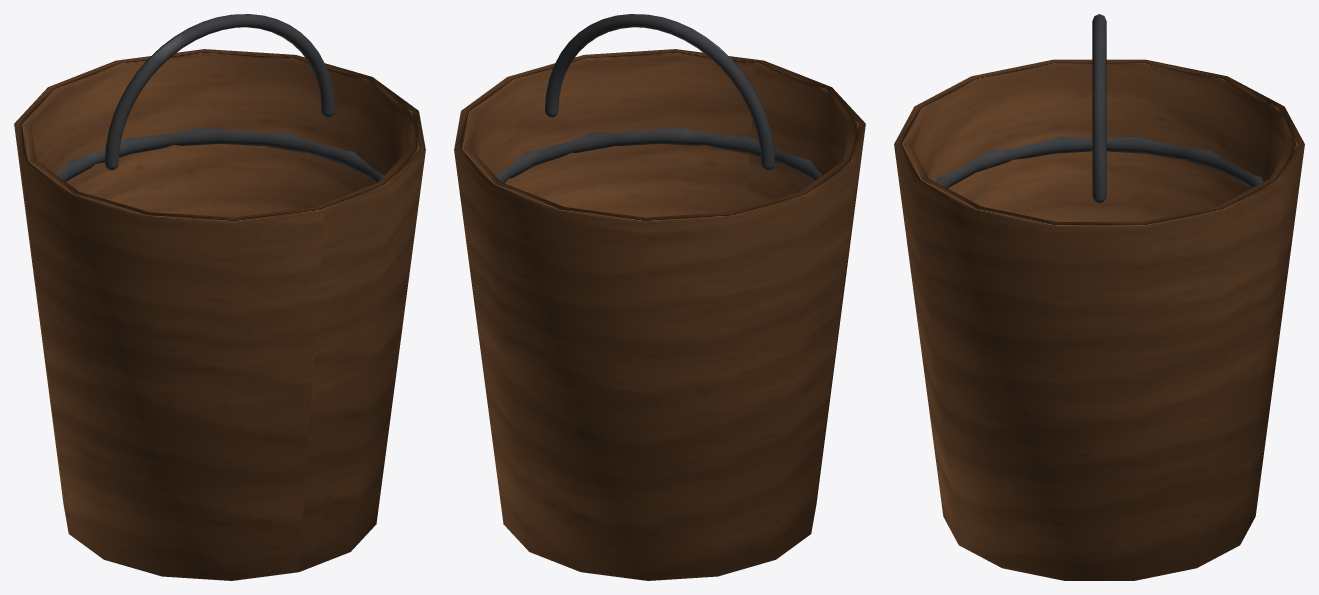
The model's file is bucket.glb.
3 views of the same model, side by side, from view 1: azimuth 30°, elevation 25°; view 2: azimuth 150°, elevation 25°; view 3: azimuth 270°, elevation 25° (orthographic).
Parts seen in each view (by area): view 1: bucket; view 2: bucket; view 3: bucket.
Boxes of the visible parts, bbox=[...] form: bucket: bbox=[14, 14, 425, 580]; bucket: bbox=[454, 14, 865, 580]; bucket: bbox=[894, 14, 1304, 580].
Size of the model in its own units: 0.3413 by 0.4611 by 0.3501.
Materials: 2 (2 with a texture image).
